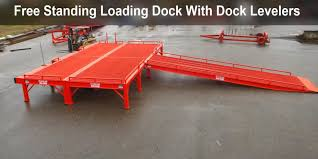Yard Ramp: (145, 50, 318, 97)
